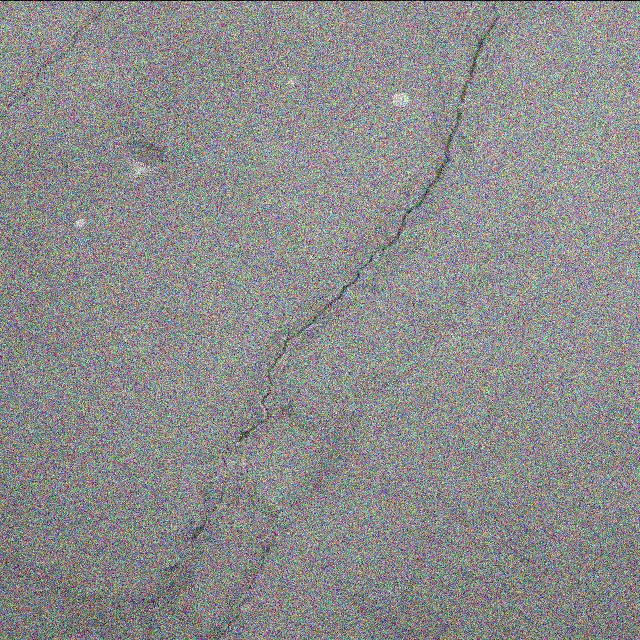SurfaceCrack: (120, 0, 541, 640)
